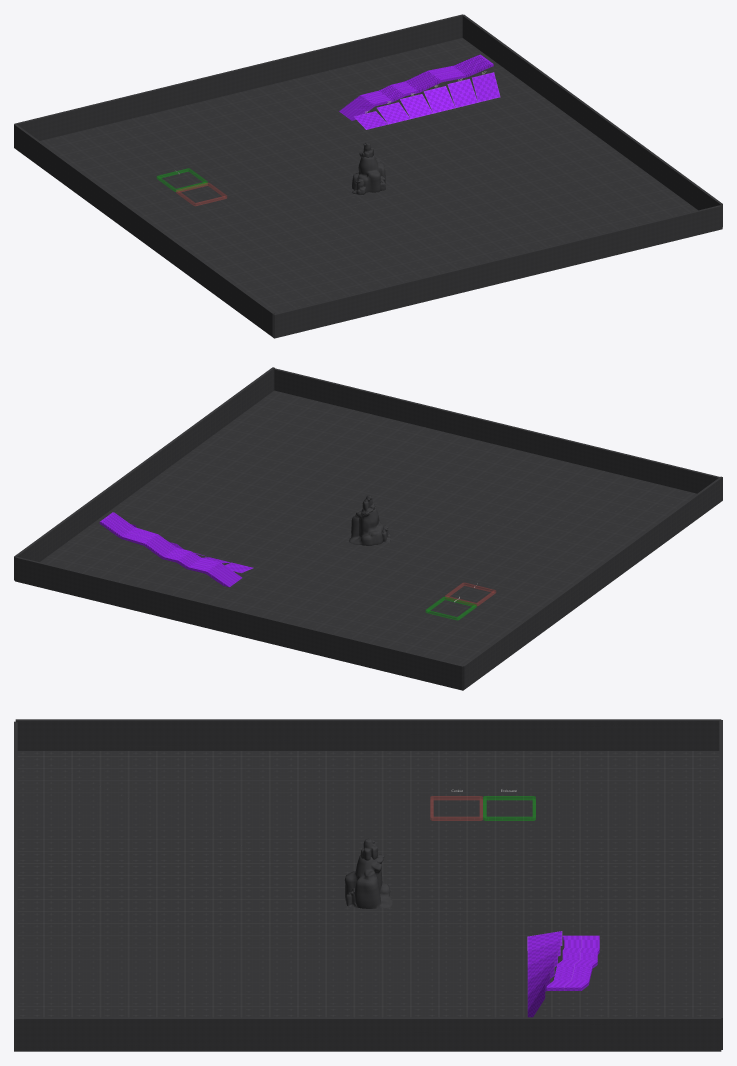
The picture shows the model from 3 angles, top to bottom: view 1: azimuth 30°, elevation 25°; view 2: azimuth 150°, elevation 25°; view 3: azimuth 270°, elevation 25°; orthographic projection. The views are drawn at different scales.
Visible parts, largest first — view 1: Floor, Wall, Slopes, CurvedStairs, Rock; view 2: Floor, Wall, CurvedStairs, Rock; view 3: Floor, Wall, Rock, Slopes, CurvedStairs, CombatZone, ExplorationZone.
Boxes of the visible parts, x1=… form: Floor: x1=40, y1=38, x2=697, y2=337; Wall: x1=14, y1=14, x2=722, y2=338; Slopes: x1=354, y1=72, x2=500, y2=129; CurvedStairs: x1=339, y1=54, x2=493, y2=120; Rock: x1=349, y1=142, x2=386, y2=194; Floor: x1=15, y1=390, x2=696, y2=690; Wall: x1=14, y1=367, x2=722, y2=689; CurvedStairs: x1=99, y1=512, x2=242, y2=587; Rock: x1=349, y1=495, x2=390, y2=545; Floor: x1=17, y1=751, x2=721, y2=1051; Wall: x1=14, y1=719, x2=722, y2=1051; Rock: x1=344, y1=838, x2=392, y2=908; Slopes: x1=527, y1=931, x2=562, y2=1017; CurvedStairs: x1=546, y1=935, x2=599, y2=990; CombatZone: x1=430, y1=796, x2=482, y2=820; ExplorationZone: x1=483, y1=796, x2=535, y2=820.
Bounding box in the file's own units: 402 × 41.4 × 402.
Materials: 7 (4 with a texture image).
